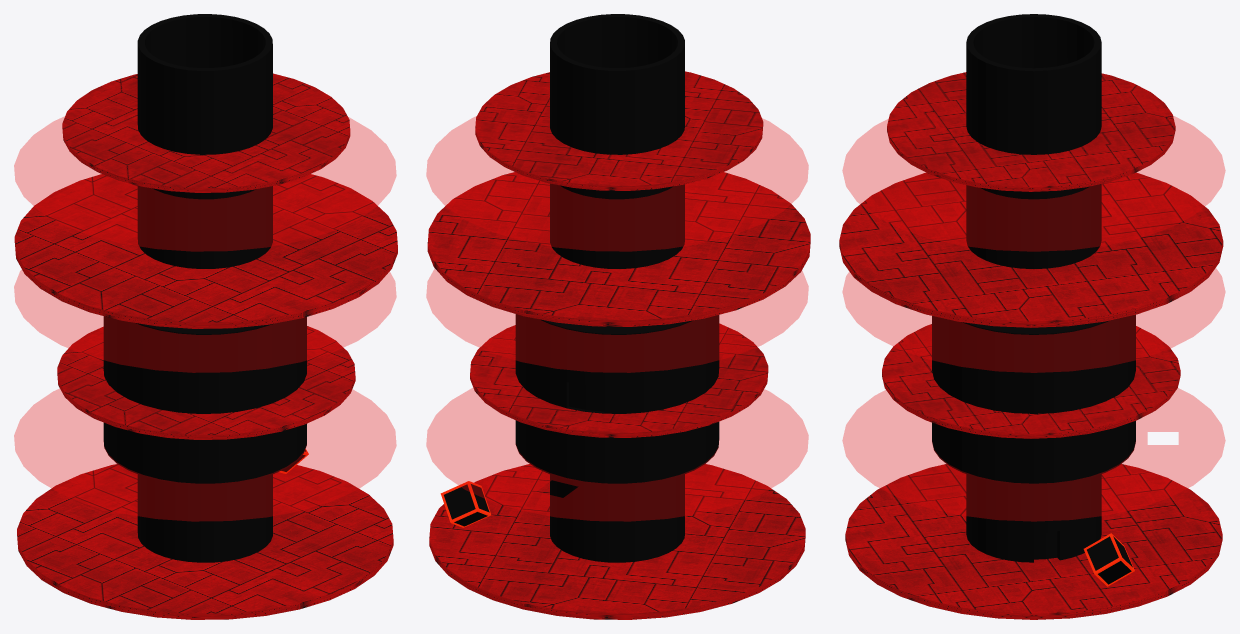
Rendered from build.glb.
3 views of the same model, side by side, from view 1: azimuth 30°, elevation 25°; view 2: azimuth 150°, elevation 25°; view 3: azimuth 270°, elevation 25° (orthographic).
Parts seen in each view (by area): view 1: floor, floor2, Base; view 2: floor, floor2, Base, decoration, door2; view 3: floor, floor2, Base, decoration, door1.
Boxes of the visible parts, left/top/right/bottom form: floor: left=14, top=73, right=397, bottom=619; floor2: left=14, top=116, right=396, bottom=521; Base: left=103, top=14, right=306, bottom=562; floor: left=427, top=71, right=810, bottom=619; floor2: left=426, top=117, right=808, bottom=521; Base: left=515, top=14, right=719, bottom=562; decoration: left=440, top=481, right=491, bottom=527; door2: left=566, top=382, right=604, bottom=412; floor: left=839, top=72, right=1223, bottom=619; floor2: left=842, top=116, right=1225, bottom=521; Base: left=932, top=14, right=1135, bottom=562; decoration: left=1083, top=533, right=1134, bottom=586; door1: left=1034, top=531, right=1059, bottom=559.
Size of what is drawn, in the model's own units: 53.52 by 76.55 by 53.85.
Materials: 4 (1 with a texture image).
